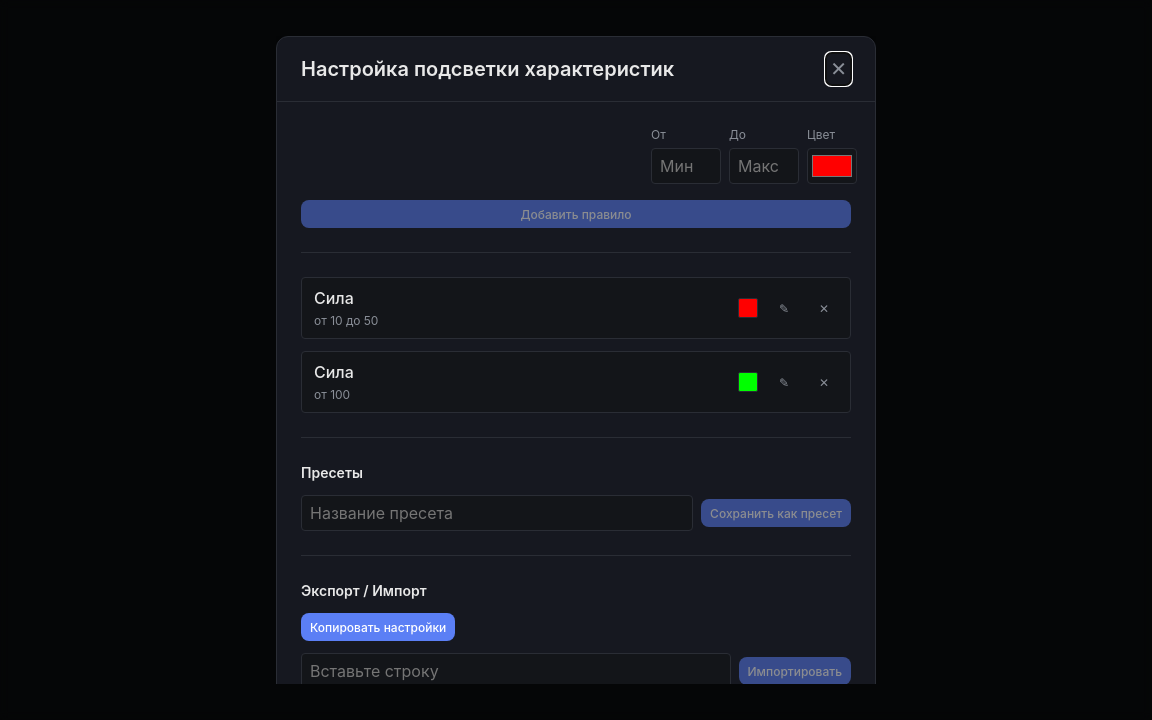
Scenario: AttributeColorSettingsModal — редактирование правил › кнопка "Отмена" сбрасывает режим редактирования
The width and height of the screenshot is (1152, 720).
Click the button named "Редактировать": (784, 308) [770,294,798,322]
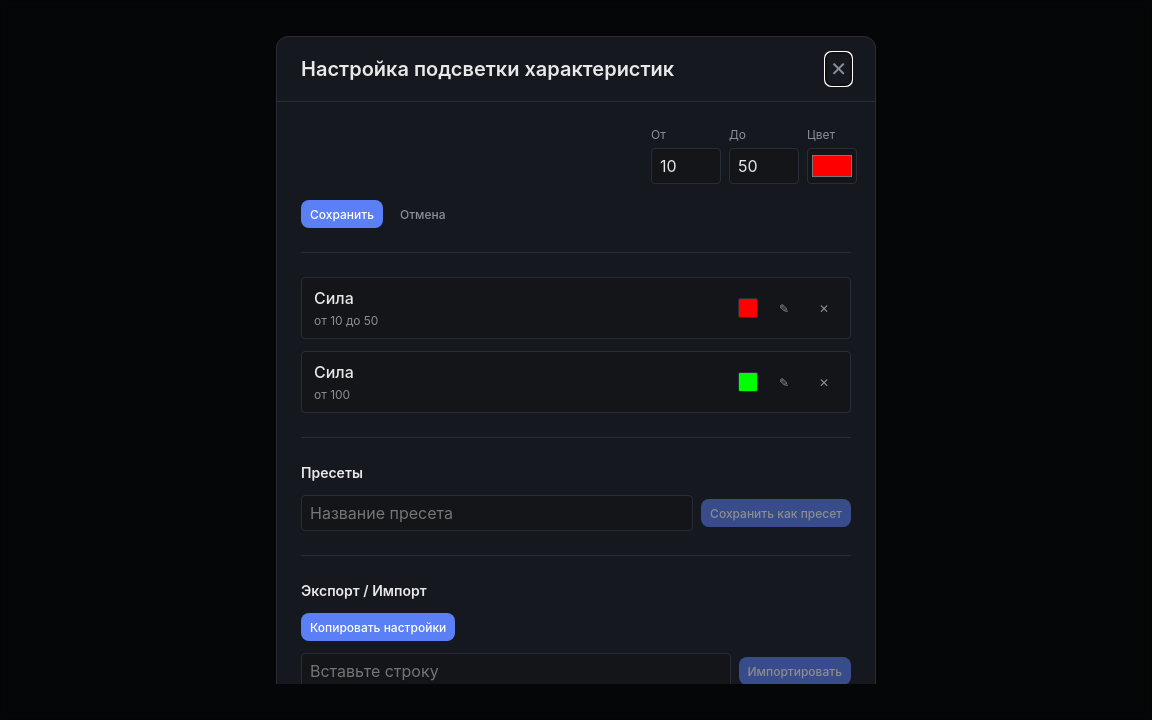
expect the button "Сохранить" is shown: met, box [301,200,383,228]
Click the button "Отмена": (423, 214) [391,200,455,228]
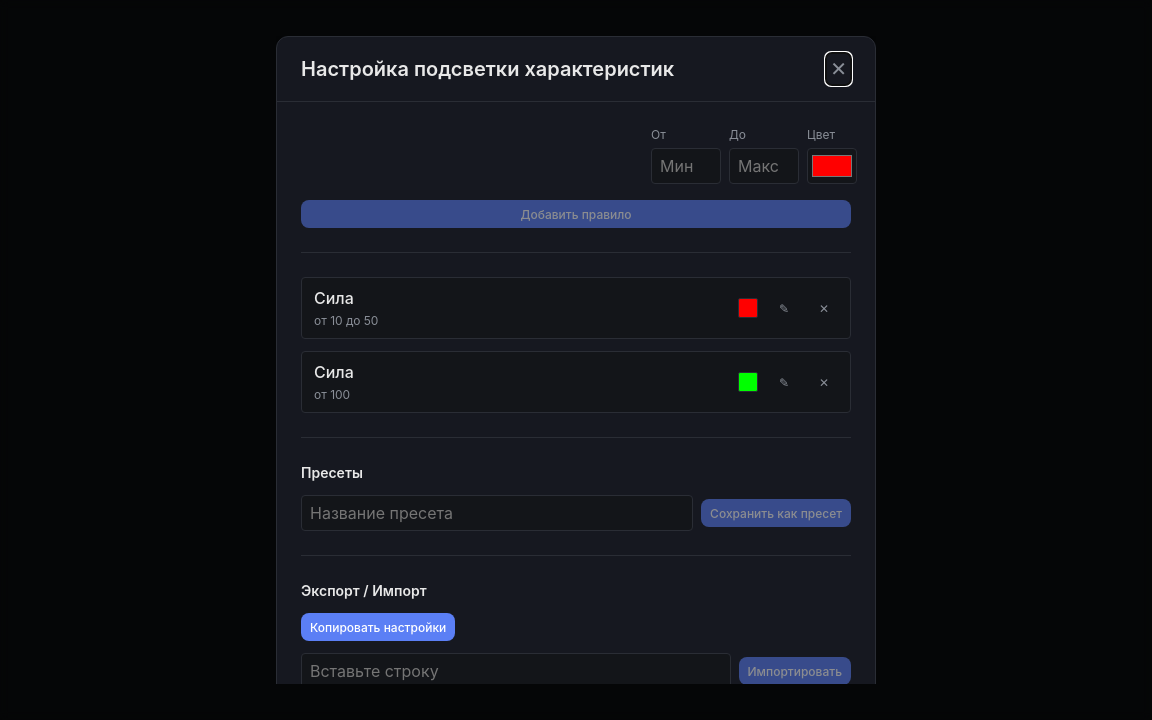
expect the button "Добавить правило" is shown: met, box [301,200,851,228]
